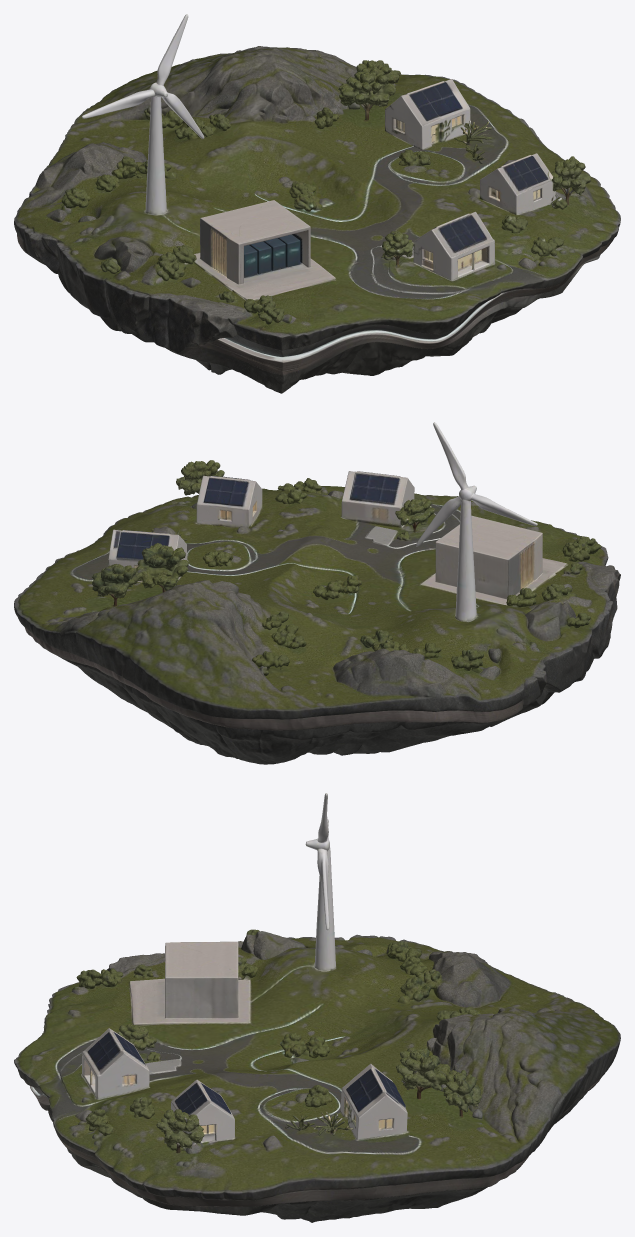
The model's file is island.glb.
The picture shows the model from 3 angles, top to bottom: view 1: azimuth 30°, elevation 25°; view 2: azimuth 150°, elevation 25°; view 3: azimuth 270°, elevation 25°; orthographic projection.
Bounding box in the file's own units: 1.81 × 1.18 × 1.9.
1 material, 1 textured.
